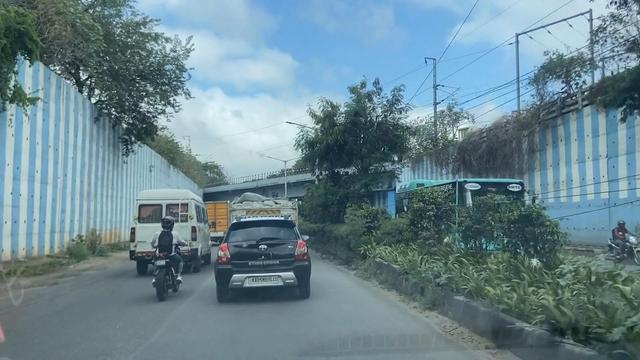HMV: (129, 193, 207, 272)
LMV: (214, 217, 304, 299), (144, 212, 187, 308)
